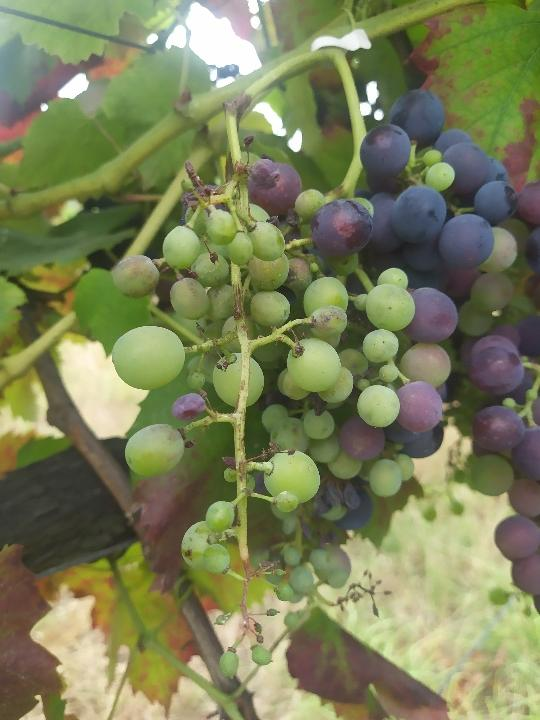grape: (106, 154, 418, 682)
